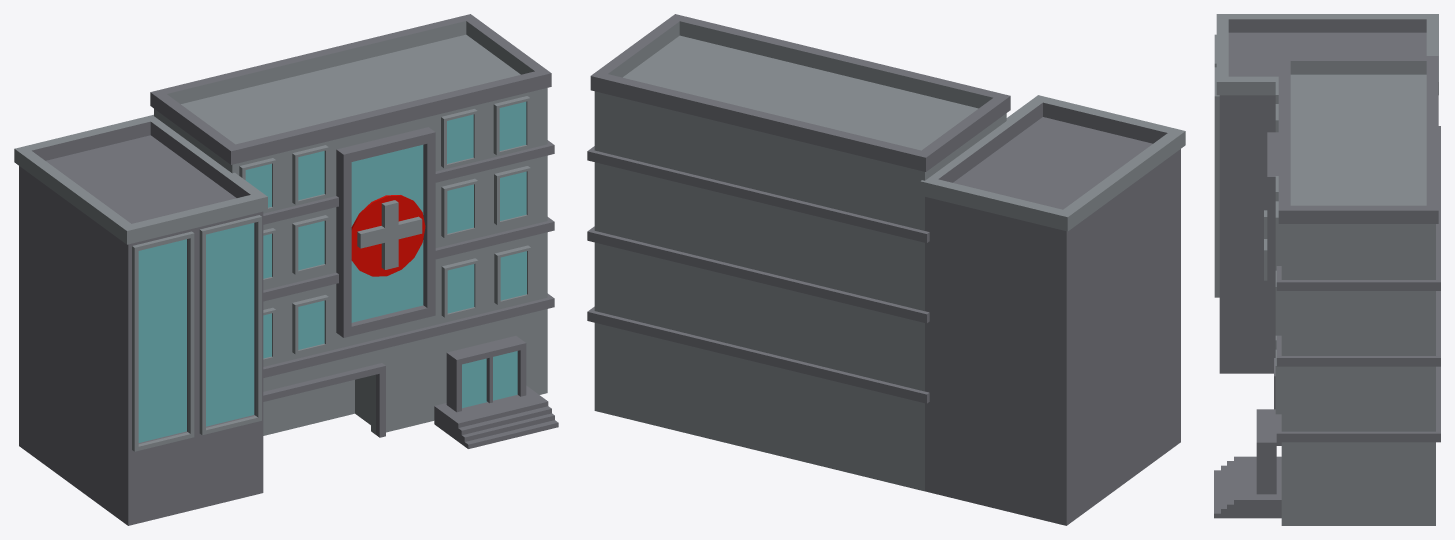
File: Hospital.fbx
3 renders of one model, left to right at view 1: azimuth 30°, elevation 25°; view 2: azimuth 150°, elevation 25°; view 3: azimuth 270°, elevation 25°, orthographic. The views are drawn at different scales.
Parts seen in each view (by area): view 1: Hospital; view 2: Hospital; view 3: Hospital.
Boxes of the visible parts, x1,y1,x2,y2 form: Hospital: (14, 14, 558, 525); Hospital: (587, 14, 1185, 525); Hospital: (1214, 14, 1440, 525).
Bounding box in the file's own units: 1016 × 686 × 441.
